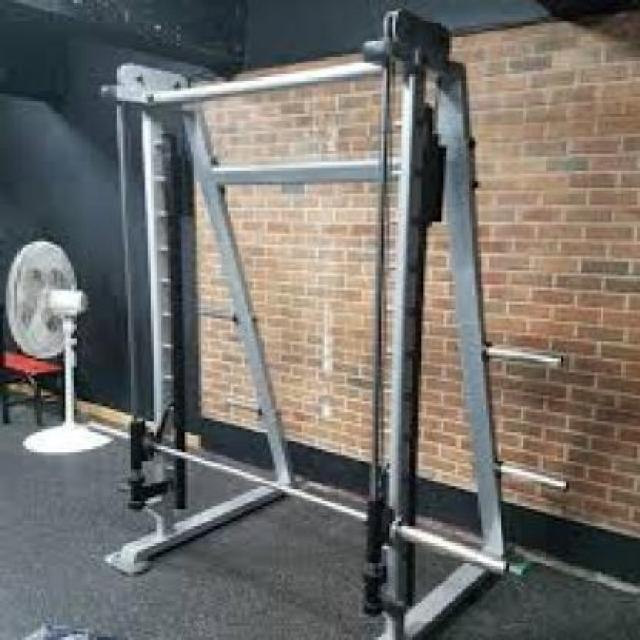smith machine: (103, 14, 569, 635)
